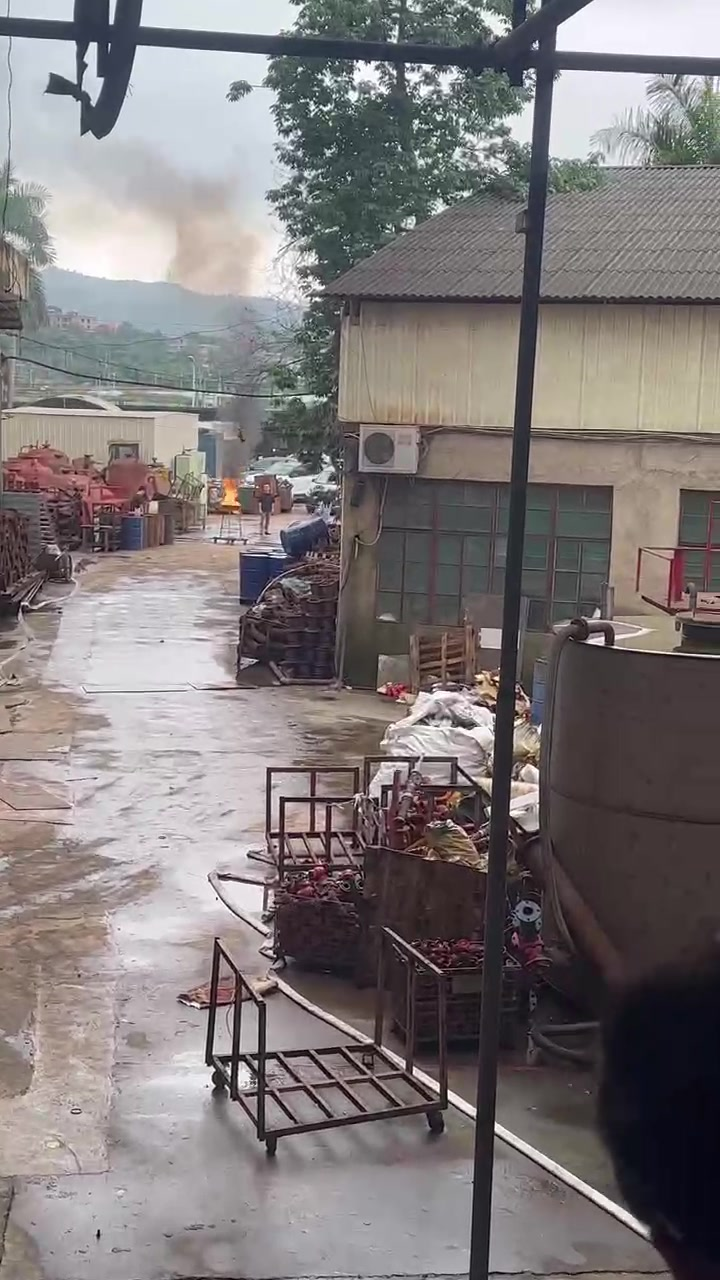fire: (218, 476, 239, 504)
